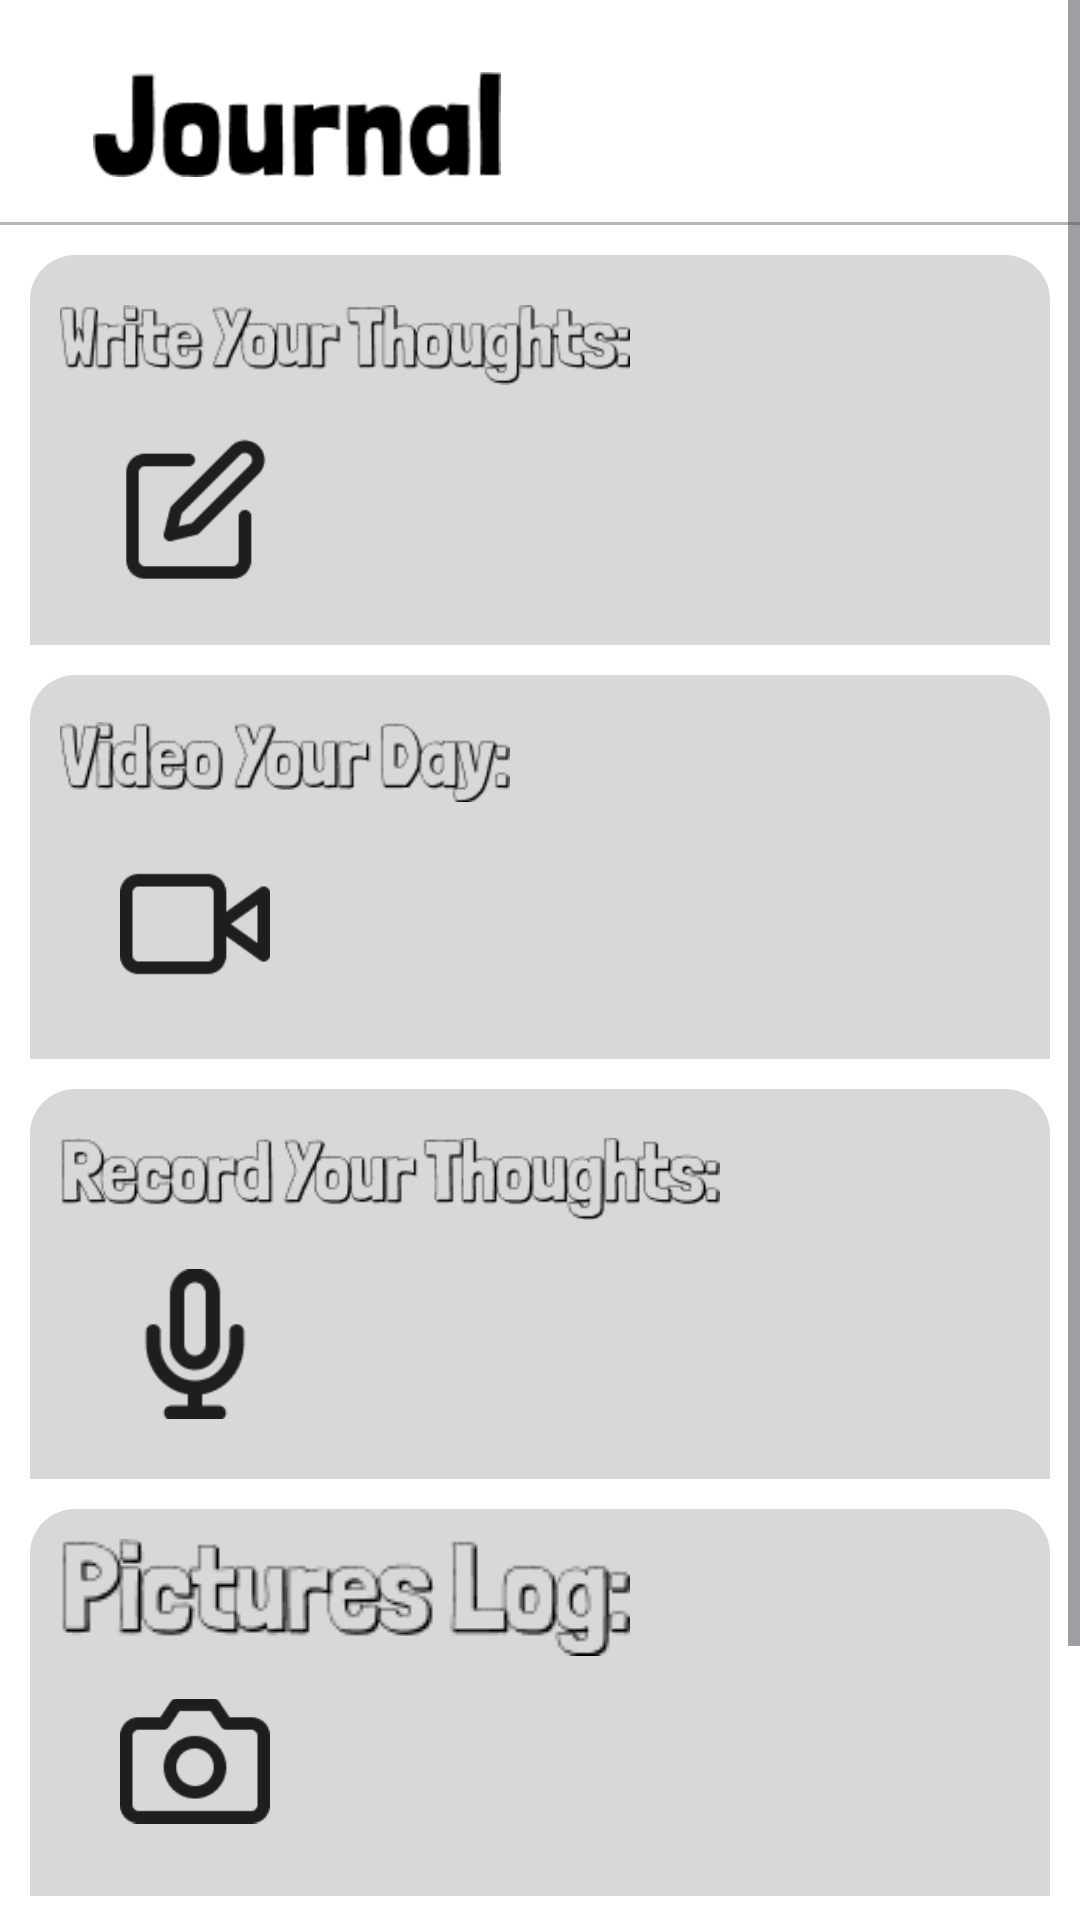

Where icons sit on this 1080x1920 app screen, as bbox=(x1, y1, x2, y2):
camera: bbox=(120, 1699, 270, 1824)
